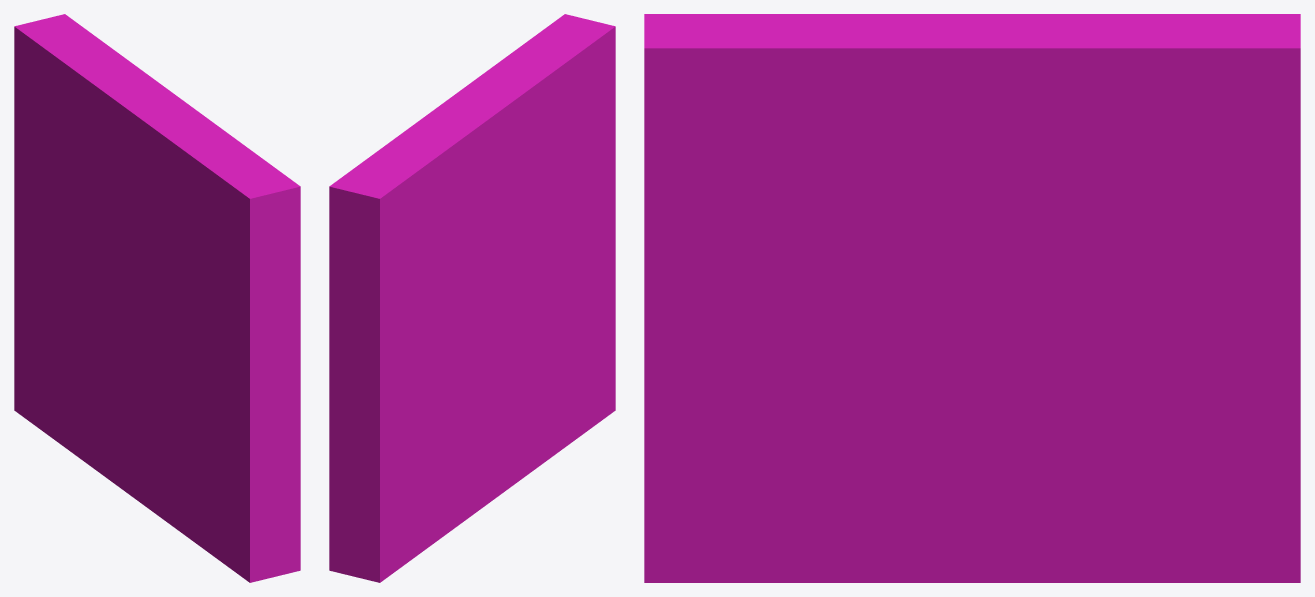
The model's file is low_wall.fbx.
3 views of the same model, side by side, from view 1: azimuth 30°, elevation 25°; view 2: azimuth 150°, elevation 25°; view 3: azimuth 270°, elevation 25° (orthographic). The views are drawn at different scales.
Visible parts, largest first — view 1: lowWall_COL; view 2: lowWall_COL; view 3: lowWall_COL.
Boxes of the visible parts, box(x1,y1,x2,y2) form: lowWall_COL: box(14, 14, 300, 582); lowWall_COL: box(329, 14, 615, 582); lowWall_COL: box(644, 14, 1300, 582).
Bounding box in the file's own units: 56.51 × 455 × 409.
